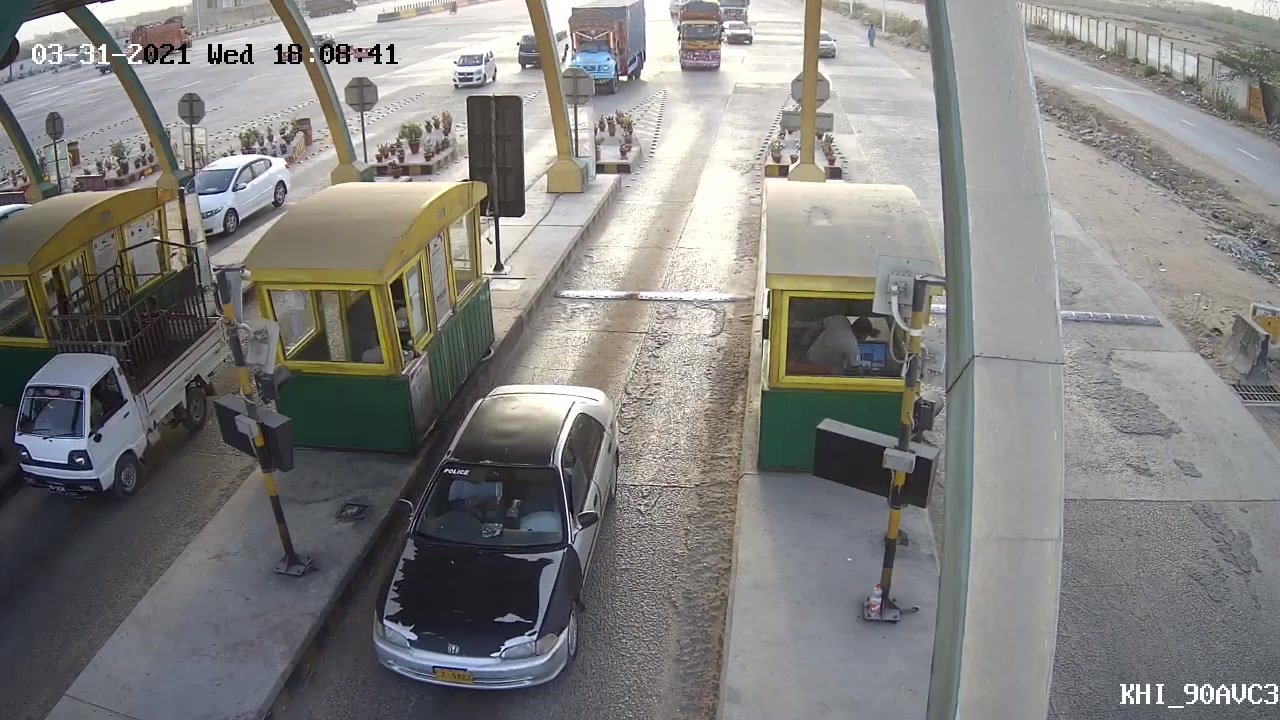F1: (367, 377, 625, 699)
